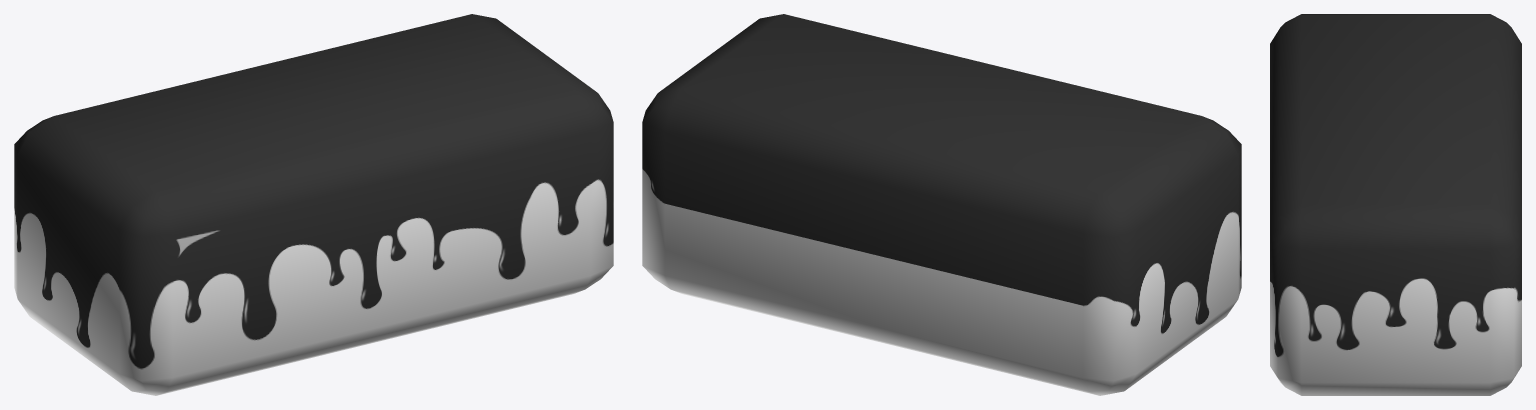
Rendered from InkBrick.obj.
The picture shows the model from 3 angles, left to right: view 1: azimuth 30°, elevation 25°; view 2: azimuth 150°, elevation 25°; view 3: azimuth 270°, elevation 25°; orthographic projection. The views are drawn at different scales.
Parts seen in each view (by area): view 1: OriginalBrick.015_Cube.028; view 2: OriginalBrick.015_Cube.028; view 3: OriginalBrick.015_Cube.028.
Boxes of the visible parts, x1=… form: OriginalBrick.015_Cube.028: x1=14, y1=14, x2=613, y2=395; OriginalBrick.015_Cube.028: x1=642, y1=14, x2=1241, y2=395; OriginalBrick.015_Cube.028: x1=1270, y1=14, x2=1521, y2=395.
Bounding box in the file's own units: 0.9 × 0.36 × 0.4316.
Materials: 1 (1 with a texture image).
